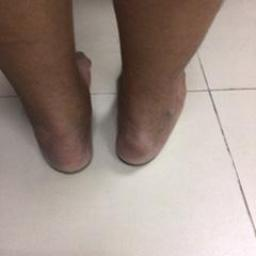Back View -Both Feet-: (8, 24, 209, 190)
